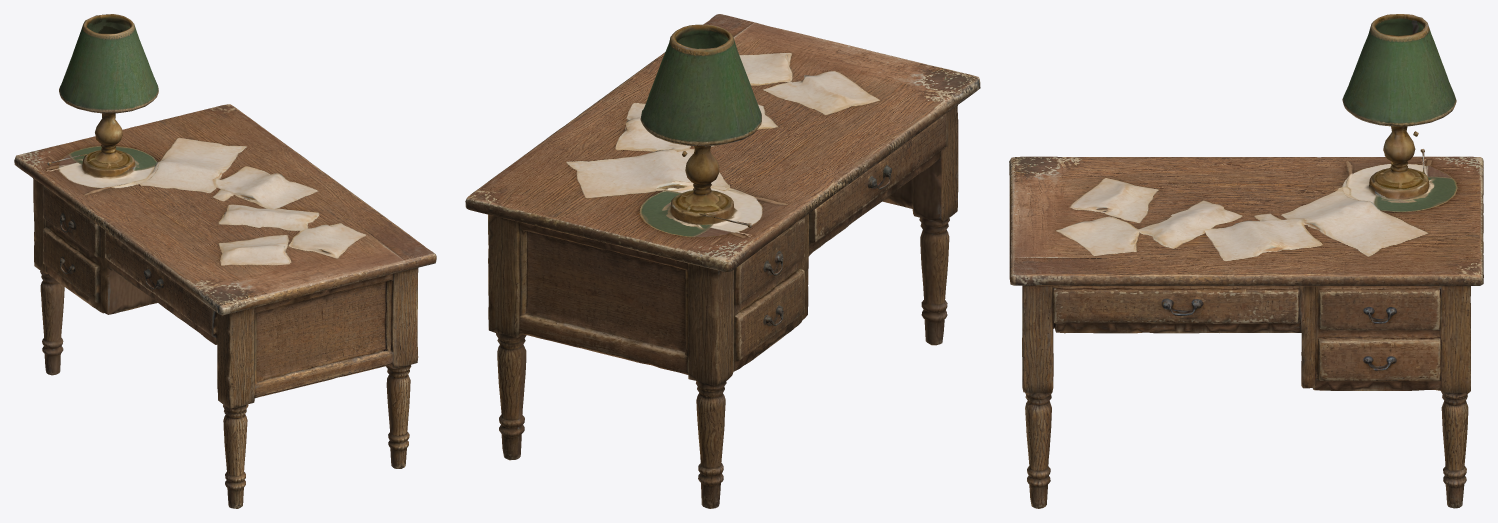
Rendered from Desk.glb.
3 renders of one model, left to right at view 1: azimuth 30°, elevation 25°; view 2: azimuth 150°, elevation 25°; view 3: azimuth 270°, elevation 25°, orthographic. The views are drawn at different scales.
Visible parts, largest first — view 1: texture_mapping; view 2: texture_mapping; view 3: texture_mapping.
Boxes of the visible parts, x1=… form: texture_mapping: x1=14, y1=14, x2=436, y2=508; texture_mapping: x1=465, y1=14, x2=980, y2=508; texture_mapping: x1=1009, y1=14, x2=1483, y2=508.
Size of the model in its own units: 0.5995 by 0.9443 by 0.994.
1 material, 1 textured.
